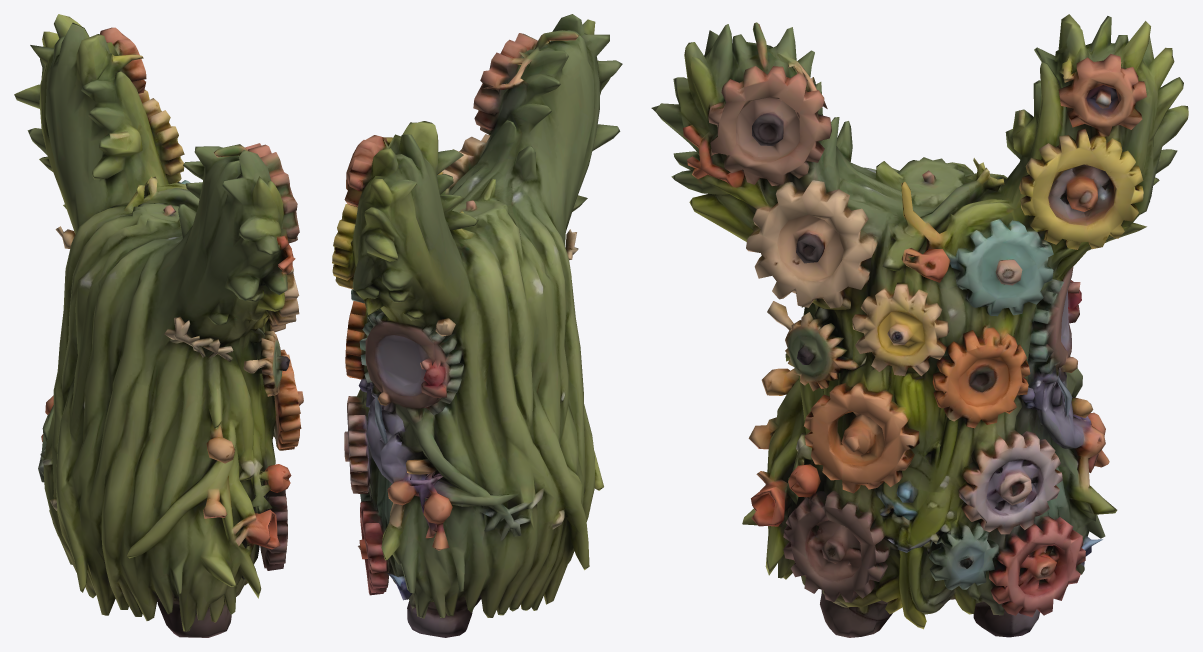
Rendered from body.glb.
3 views of the same model, side by side, from view 1: azimuth 30°, elevation 25°; view 2: azimuth 150°, elevation 25°; view 3: azimuth 270°, elevation 25° (orthographic). The views are drawn at different scales.
Parts seen in each view (by area): view 1: tripo_node_1e87980b-afc6-48a0-a6ec-3fe6e957aebd; view 2: tripo_node_1e87980b-afc6-48a0-a6ec-3fe6e957aebd; view 3: tripo_node_1e87980b-afc6-48a0-a6ec-3fe6e957aebd.
Boxes of the visible parts, bbox=[...] form: tripo_node_1e87980b-afc6-48a0-a6ec-3fe6e957aebd: bbox=[14, 14, 303, 637]; tripo_node_1e87980b-afc6-48a0-a6ec-3fe6e957aebd: bbox=[332, 14, 622, 637]; tripo_node_1e87980b-afc6-48a0-a6ec-3fe6e957aebd: bbox=[651, 14, 1188, 637].
Bounding box in the file's own units: 0.4273 × 1 × 0.8126.
1 material, 1 textured.
